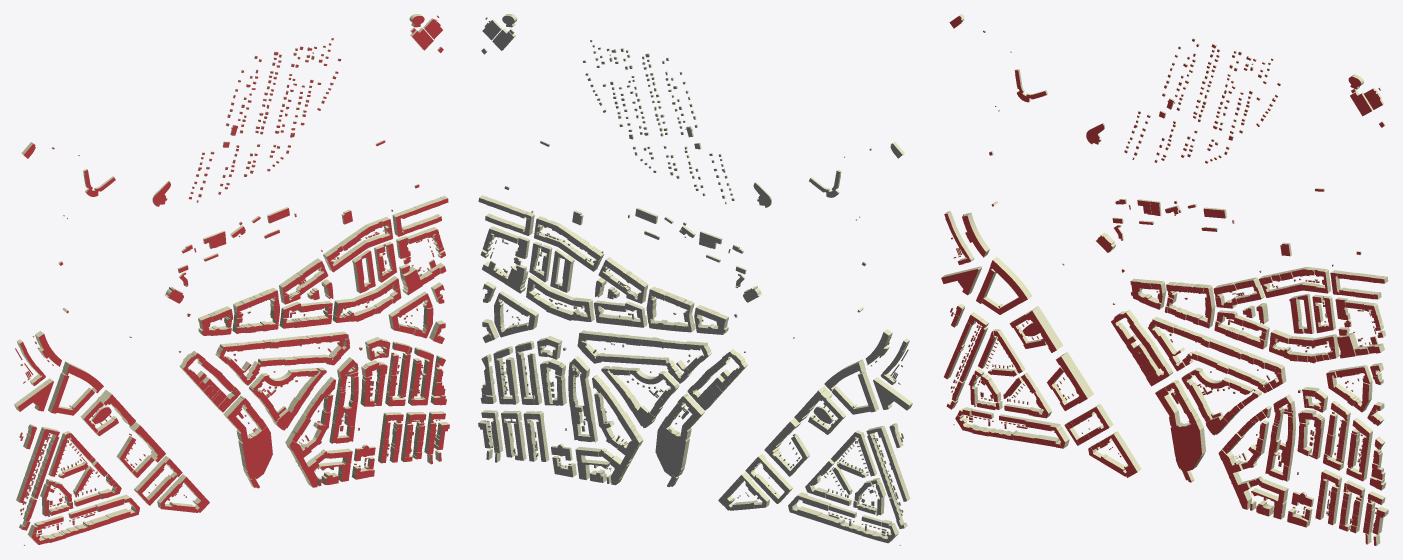
3 renders of one model, left to right at view 1: azimuth 30°, elevation 25°; view 2: azimuth 150°, elevation 25°; view 3: azimuth 330°, elevation 25°, orthographic. The views are drawn at different scales.
Visible parts, largest first — view 1: NL.IMBAG.Pand.0599100000702528-722, NL.IMBAG.Pand.0599100000750780-674, NL.IMBAG.Pand.0599100000618753-409; view 2: NL.IMBAG.Pand.0599100000702528-722, NL.IMBAG.Pand.0599100000750780-674, NL.IMBAG.Pand.0599100000618753-409; view 3: NL.IMBAG.Pand.0599100000702528-722, NL.IMBAG.Pand.0599100000750780-674, NL.IMBAG.Pand.0599100000752381-530, NL.IMBAG.Pand.0599100000759317-389, NL.IMBAG.Pand.0599100000675824-412, NL.IMBAG.Pand.0599100000618753-409, NL.IMBAG.Pand.0599100000761893-1190, NL.IMBAG.Pand.0599100100013049-420.
Part boxes in pixels (<box>): NL.IMBAG.Pand.0599100000702528-722: <box>237,426,272,479</box>; NL.IMBAG.Pand.0599100000750780-674: <box>285,437,319,487</box>; NL.IMBAG.Pand.0599100000618753-409: <box>14,378,53,411</box>; NL.IMBAG.Pand.0599100000702528-722: <box>655,424,690,477</box>; NL.IMBAG.Pand.0599100000750780-674: <box>609,435,643,485</box>; NL.IMBAG.Pand.0599100000618753-409: <box>873,377,912,410</box>; NL.IMBAG.Pand.0599100000702528-722: <box>1169,419,1206,471</box>; NL.IMBAG.Pand.0599100000750780-674: <box>1218,449,1252,509</box>; NL.IMBAG.Pand.0599100000752381-530: <box>1056,352,1093,403</box>; NL.IMBAG.Pand.0599100000759317-389: <box>1024,306,1063,352</box>; NL.IMBAG.Pand.0599100000675824-412: <box>989,257,1031,302</box>; NL.IMBAG.Pand.0599100000618753-409: <box>941,266,982,295</box>; NL.IMBAG.Pand.0599100000761893-1190: <box>1252,479,1288,504</box>; NL.IMBAG.Pand.0599100100013049-420: <box>962,212,989,257</box>.
Size of the model in its own units: 1028 by 1025 by 29.14.
